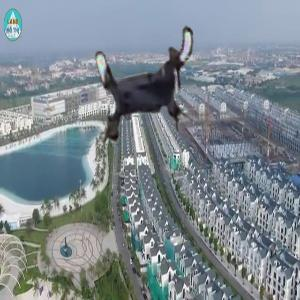drone: (84, 24, 211, 151)
